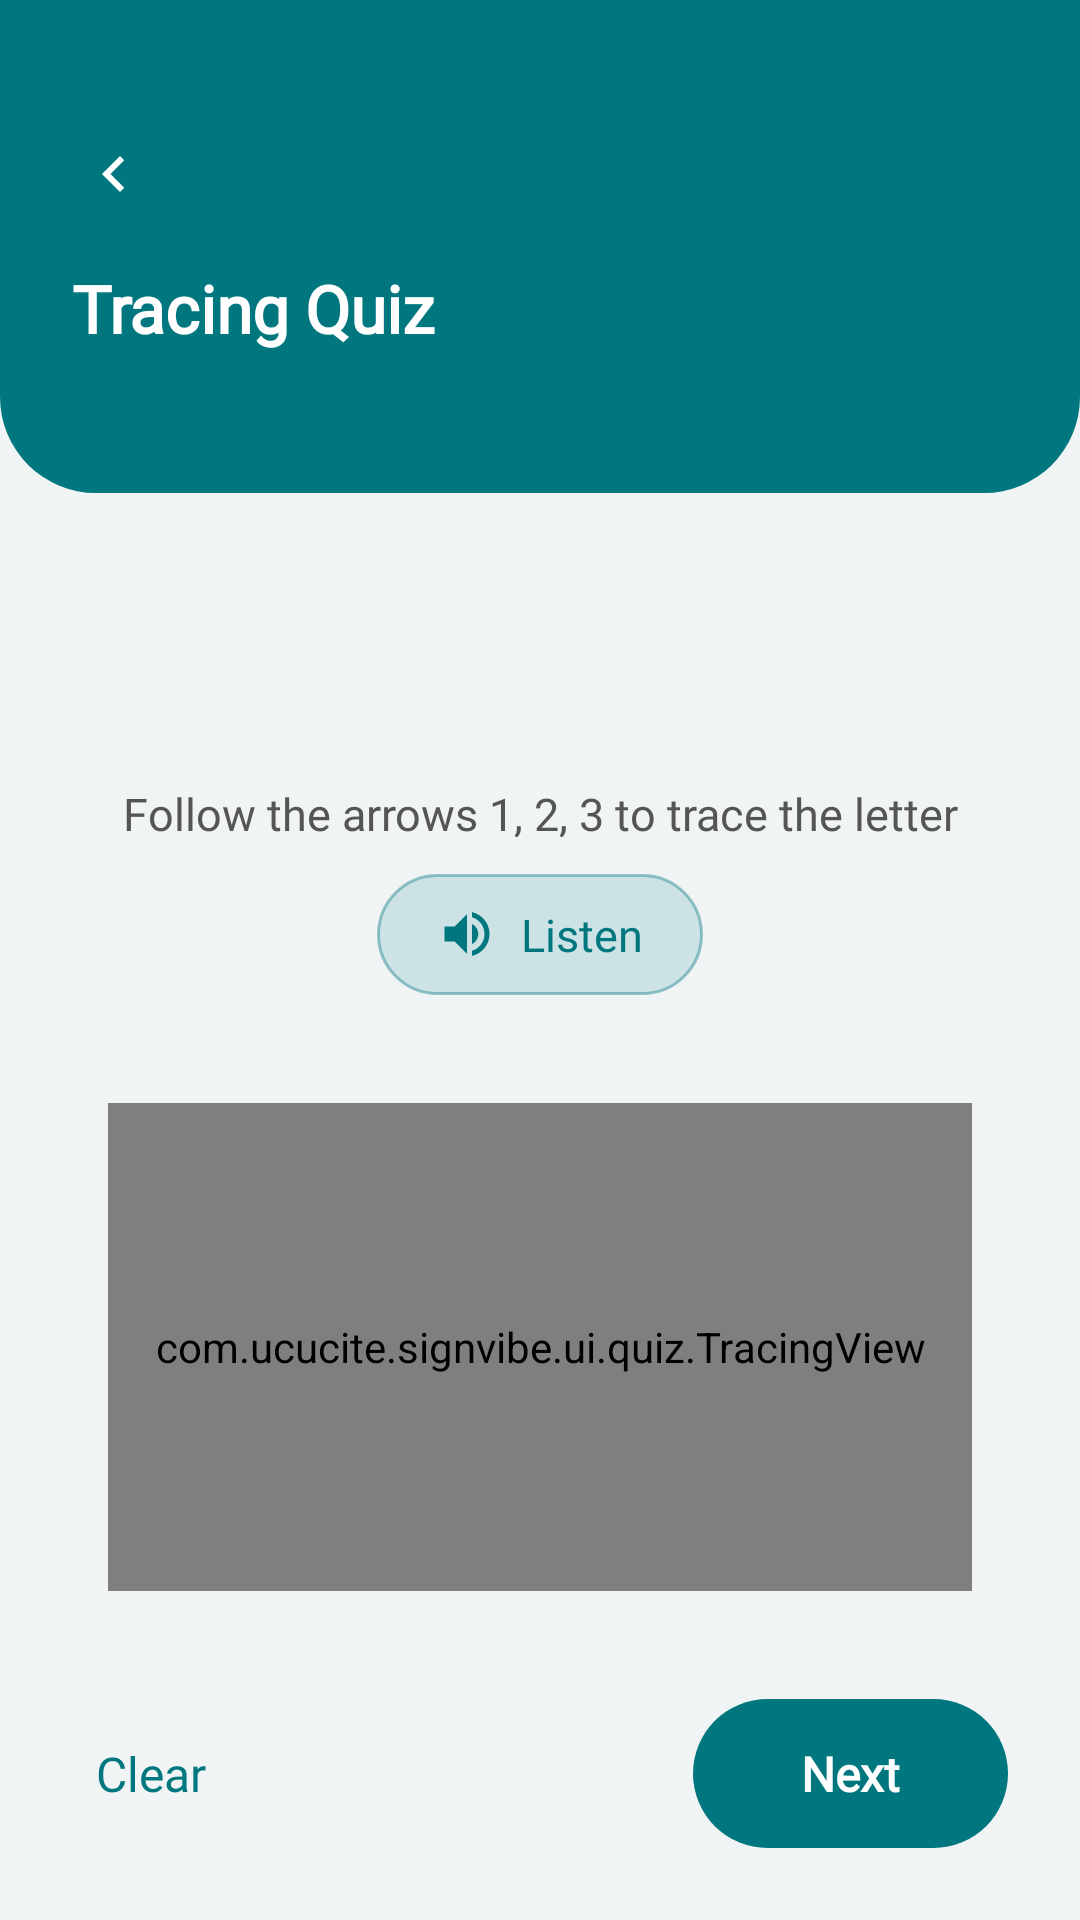

Icon bounding boxes for this 1080 x 1920 phone screenshot, format (x1, y1, x2, y2):
chevron left: (102, 156, 124, 192)
volume up: (444, 912, 490, 956)
